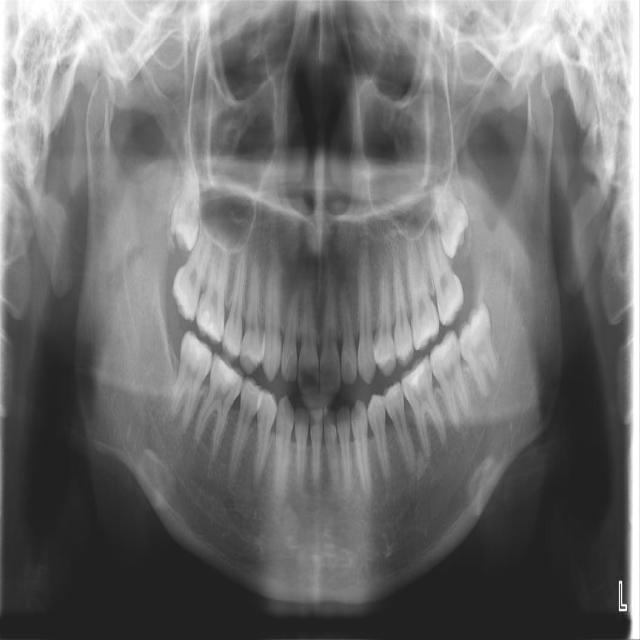Filling: (401, 361, 429, 395), (196, 308, 221, 342), (186, 335, 208, 365), (217, 361, 239, 386)
Periapical lesion: (411, 450, 429, 480), (250, 470, 265, 495), (451, 424, 465, 436)
impacted tooth: (458, 298, 494, 401), (427, 170, 467, 257), (171, 155, 202, 249)
